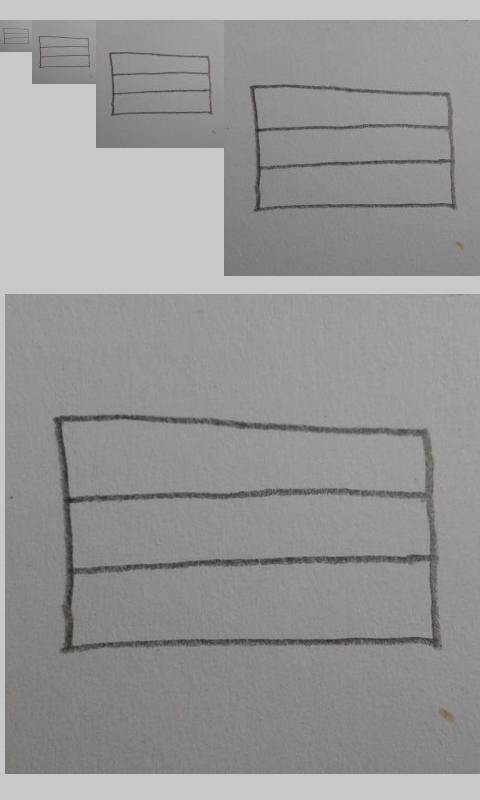list_view: (52, 411, 441, 656), (249, 83, 457, 213), (108, 50, 213, 117), (38, 35, 91, 68), (3, 27, 30, 45)
